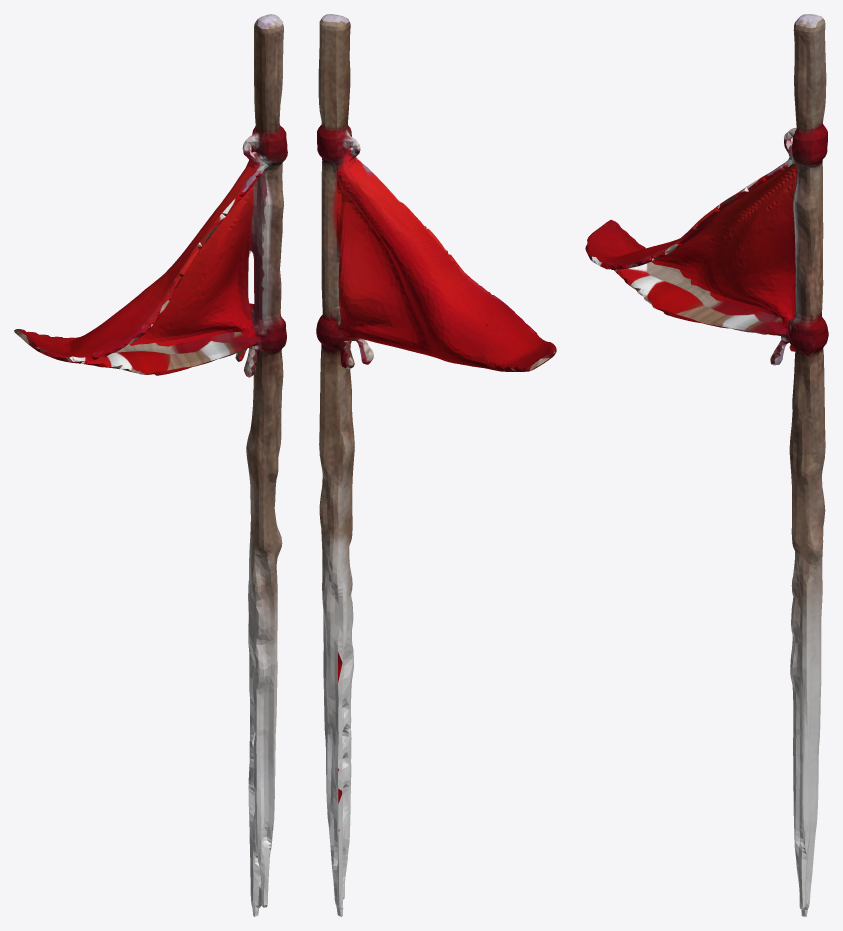
File: checkpoint_flag.glb
3 views of the same model, side by side, from view 1: azimuth 30°, elevation 25°; view 2: azimuth 150°, elevation 25°; view 3: azimuth 330°, elevation 25° (orthographic).
Parts seen in each view (by area): view 1: tmp9fy6jec6.ply; view 2: tmp9fy6jec6.ply; view 3: tmp9fy6jec6.ply.
Part boxes in pixels (x1,y1,x2,y2): tmp9fy6jec6.ply: (14, 14, 287, 916); tmp9fy6jec6.ply: (316, 14, 556, 916); tmp9fy6jec6.ply: (585, 14, 828, 916).
Bounding box in the file's own units: 0.5638 × 1.99 × 0.2012.
1 material, 1 textured.
